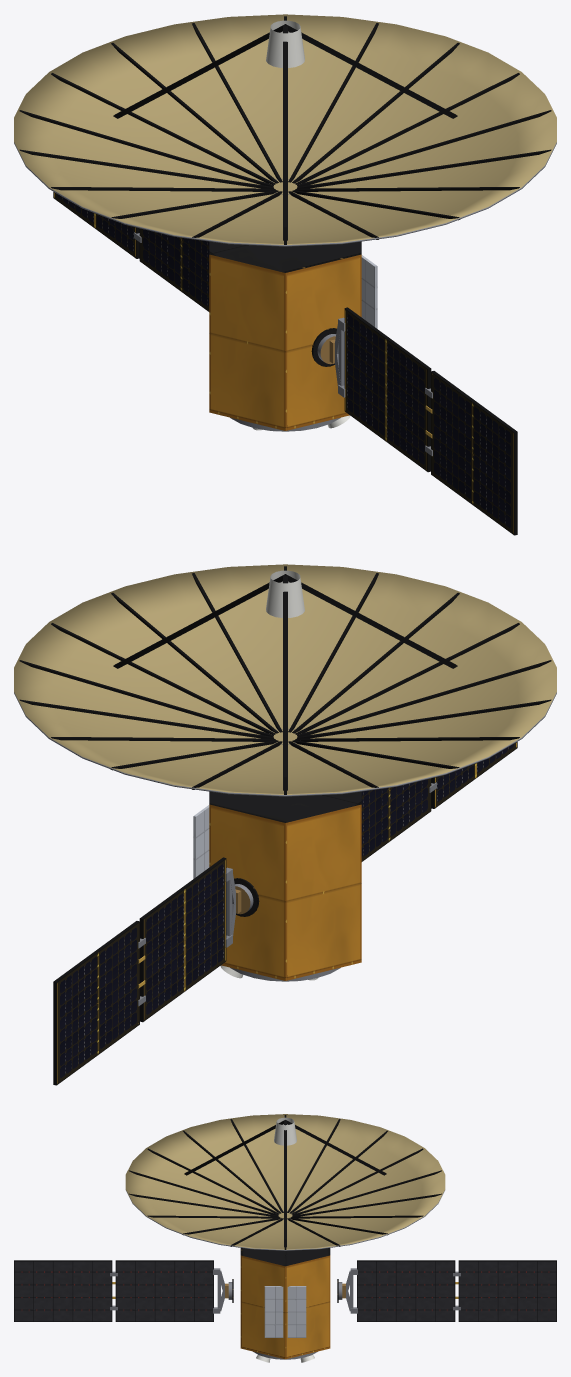
Rendered from umbra.glb.
The picture shows the model from 3 angles, top to bottom: view 1: azimuth 30°, elevation 25°; view 2: azimuth 150°, elevation 25°; view 3: azimuth 270°, elevation 25°; orthographic projection. The views are drawn at different scales.
Visible parts, largest first — view 1: bus, wing-Y, wing+Y, sadm_-Y; view 2: bus, wing+Y, wing-Y, sadm_+Y; view 3: bus, wing+Y, wing-Y.
Part boxes in pixels (box(x1,y1,x2,y2)): bus: box(14, 14, 556, 431); wing-Y: box(329, 307, 517, 535); wing+Y: box(53, 192, 209, 311); sadm_-Y: box(311, 328, 336, 366); bus: box(14, 564, 556, 981); wing+Y: box(53, 857, 241, 1085); wing-Y: box(361, 742, 517, 861); sadm_+Y: box(234, 878, 259, 916); bus: box(125, 1114, 445, 1362); wing+Y: box(342, 1260, 556, 1321); wing-Y: box(14, 1260, 228, 1321).
Size of the model in its own units: 3.6 by 2.88 by 6.08.
14 materials, 5 textured.
